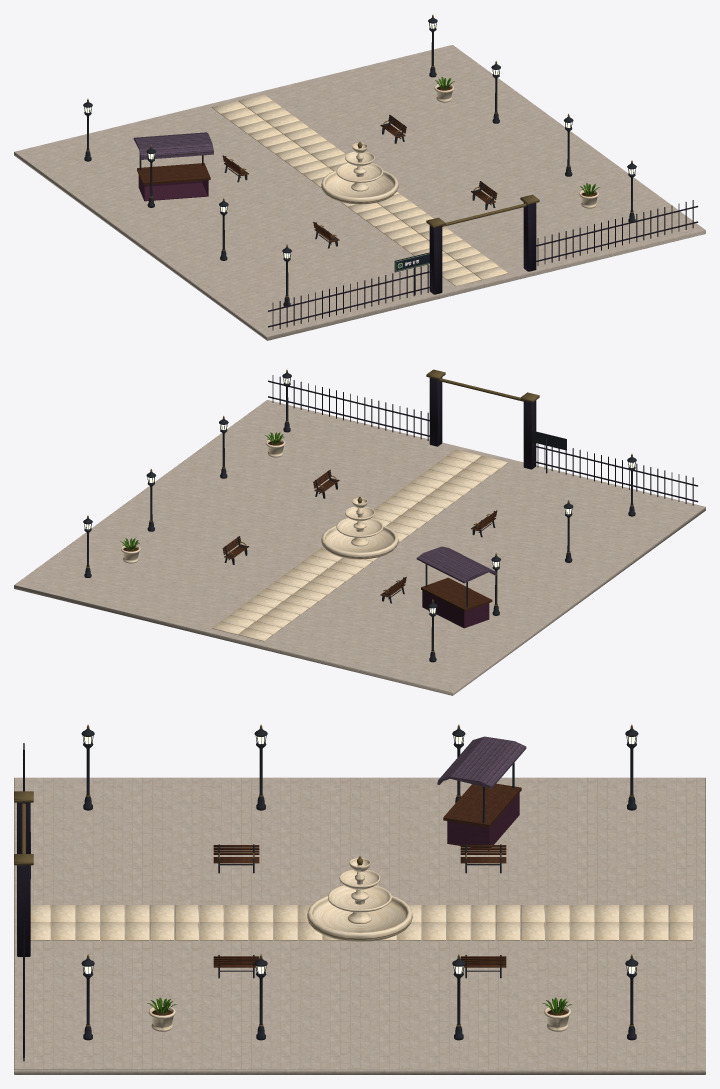
The model's file is explore3d__plaza.glb.
3 views of the same model, one above another, from view 1: azimuth 30°, elevation 25°; view 2: azimuth 150°, elevation 25°; view 3: azimuth 270°, elevation 25° (orthographic). The views are drawn at different scales.
Parts seen in each view (by area): view 1: Rebuilt_plaza; view 2: Rebuilt_plaza; view 3: Rebuilt_plaza.
Part boxes in pixels (left/top/right/bottom): Rebuilt_plaza: left=14, top=14, right=705, bottom=340; Rebuilt_plaza: left=14, top=369, right=705, bottom=695; Rebuilt_plaza: left=14, top=724, right=705, bottom=1074.
Bounding box in the file's own units: 28 × 4.56 × 28.
Materials: 13 (12 with a texture image).
